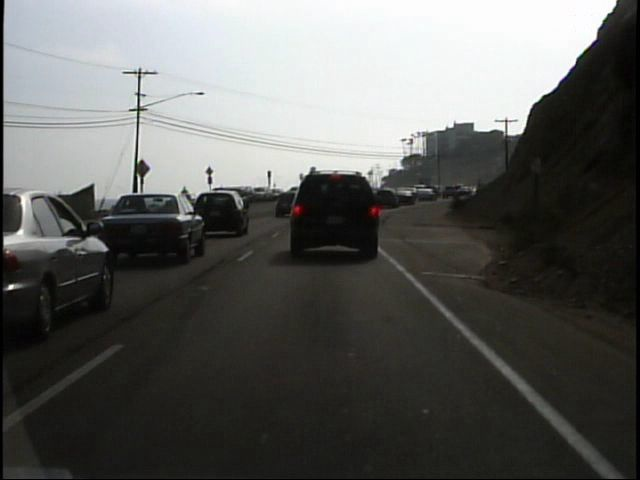person: (179, 183, 192, 210)
